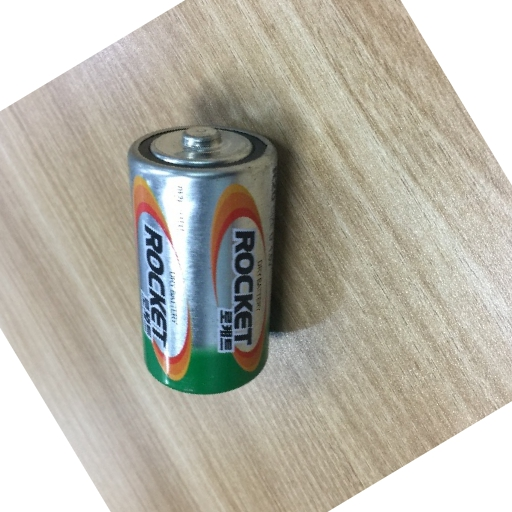Battery_0: (115, 109, 294, 401)
